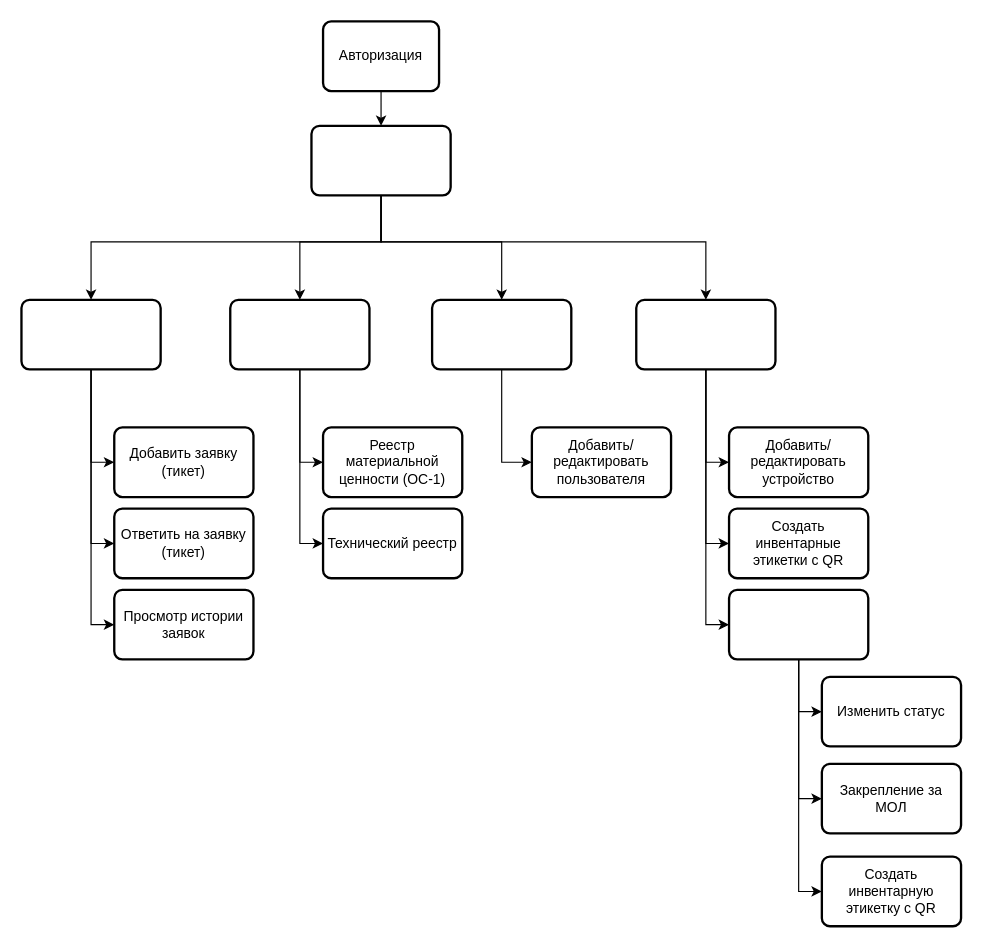
Image size: 981x947. Some labels were removed from this diagram. The centre of each missing label's shape, as x and y in pixels:
Администрирование: (x=501, y=334)
Главный раздел (дашборд): (x=380, y=160)
Карточка устройства: (x=798, y=624)
Отчетность: (x=299, y=334)
Управление заявками: (x=90, y=334)
Управление устройствами: (x=705, y=334)
